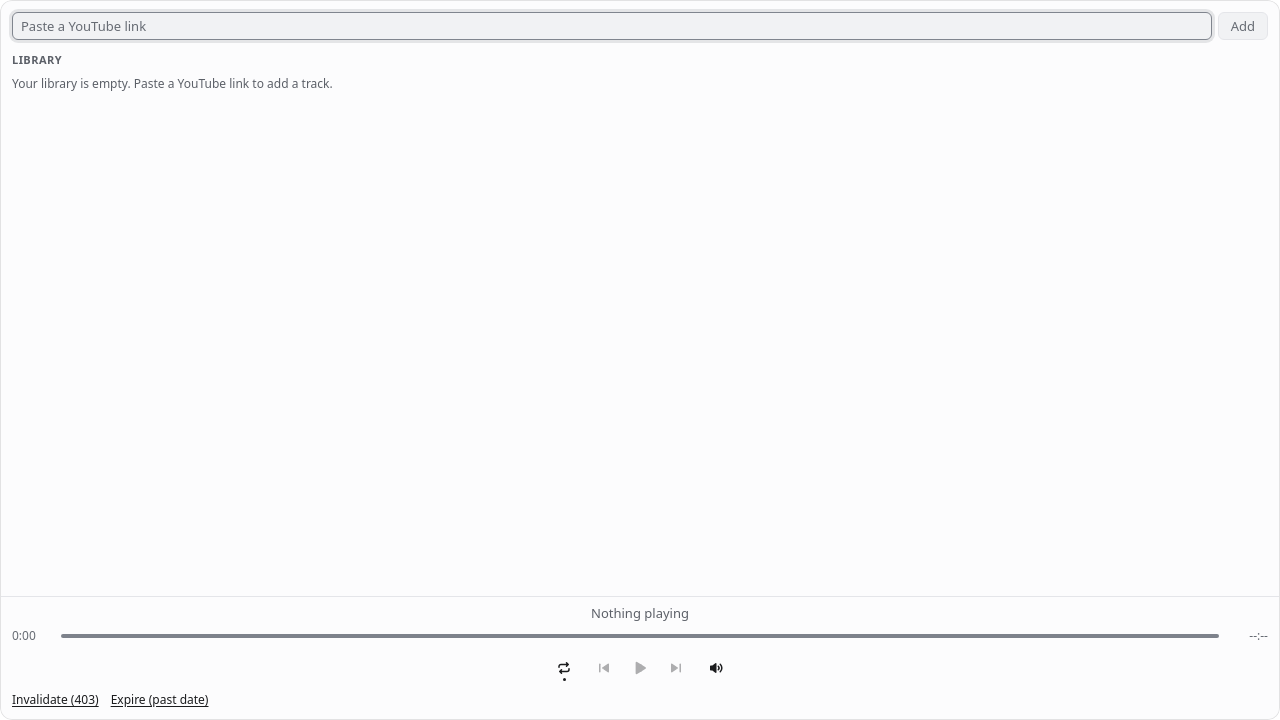
adding a track › keeps the text and shows the error when the link can't be added
Expected: the text "Your library is empty. Paste a YouTube link to add a track." is shown, x1=12 y1=75 x2=333 y2=92
Step 1. Type "https://example.com/video" into the field named "YouTube URL" → (612, 26), box x1=12 y1=12 x2=1212 y2=40
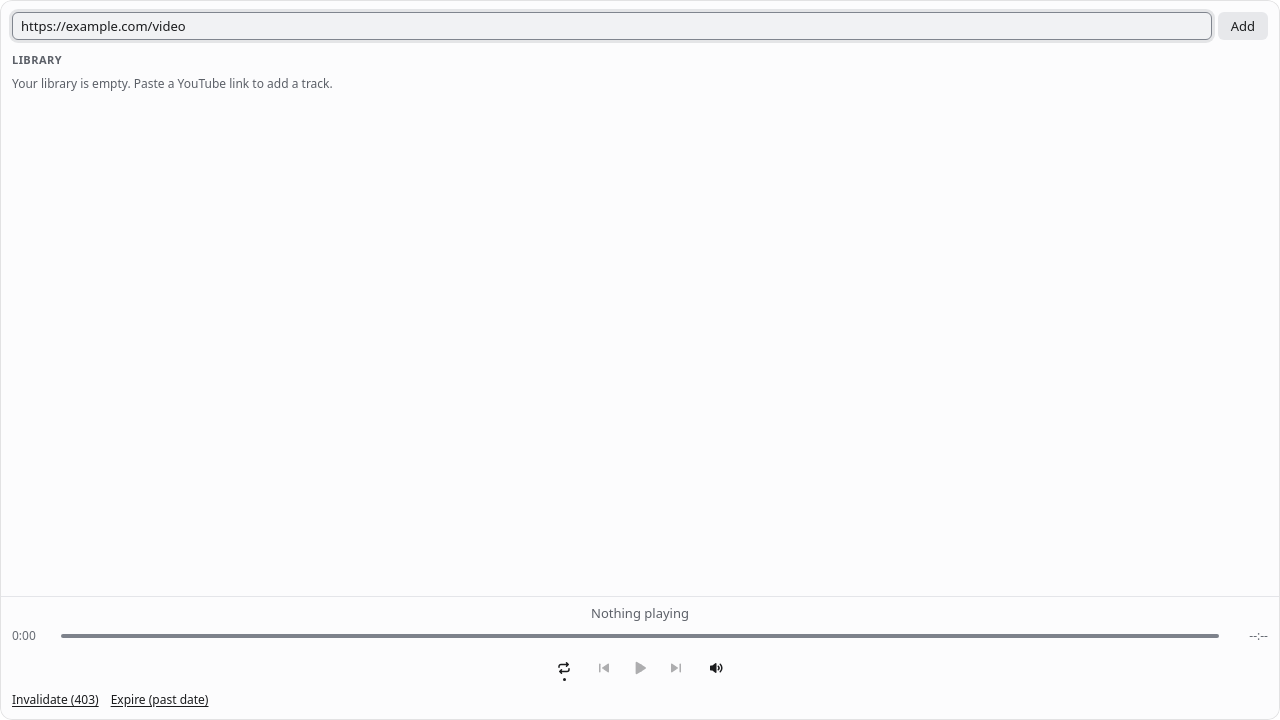
Step 2. Submit the form named "YouTube URL", box x1=12 y1=12 x2=1268 y2=40
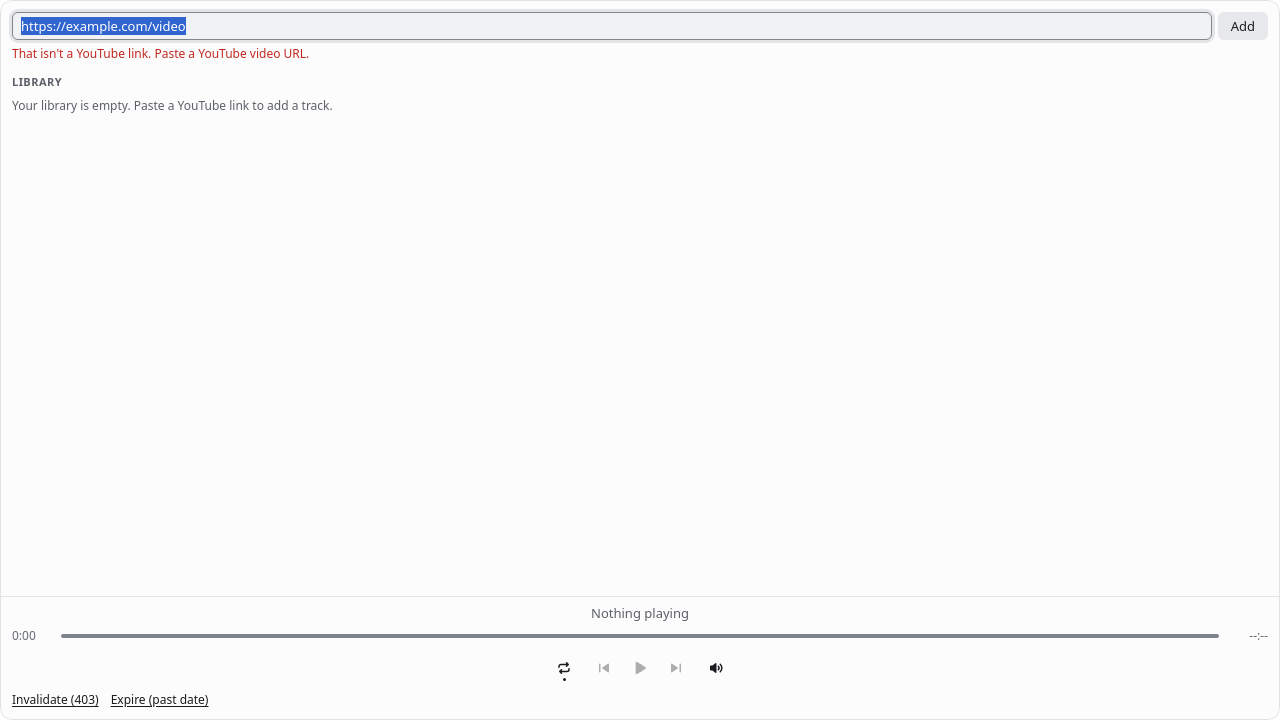
Expected: the message reads "That isn't a YouTube link. Paste a YouTube video URL.", x1=12 y1=45 x2=309 y2=62
